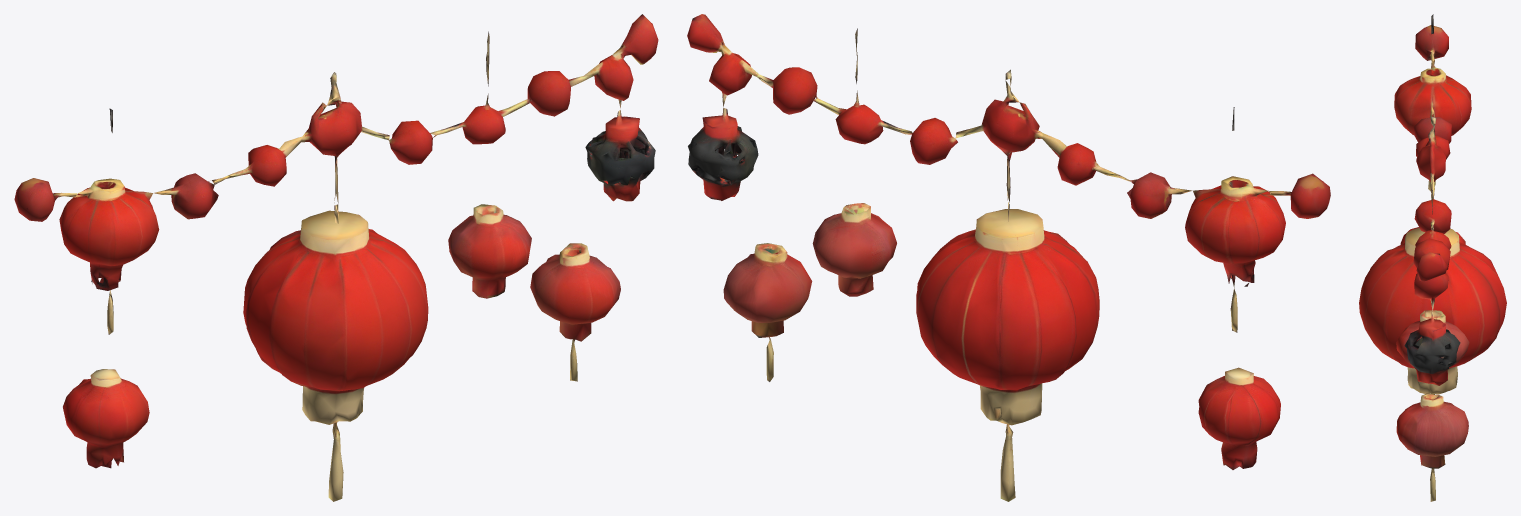
File: lantern_japan.glb
The picture shows the model from 3 angles, left to right: view 1: azimuth 30°, elevation 25°; view 2: azimuth 150°, elevation 25°; view 3: azimuth 270°, elevation 25°; orthographic projection. The views are drawn at different scales.
Bounding box in the file's own units: 2 × 1.35 × 0.5089.
1 material, 1 textured.
